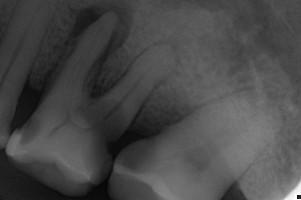Dental Caries: (65, 6, 133, 98)
